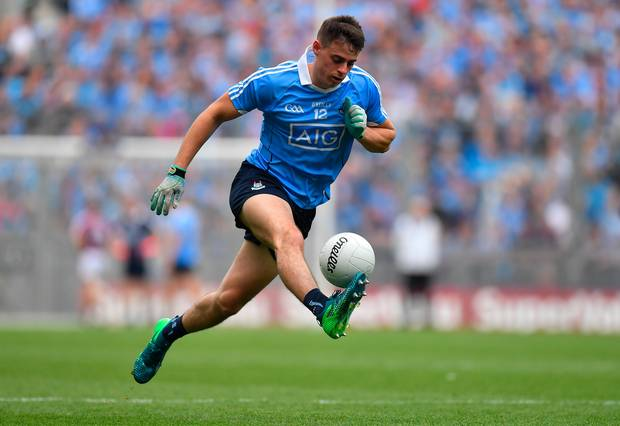ball: (321, 231, 376, 288)
player: (222, 12, 384, 345)
